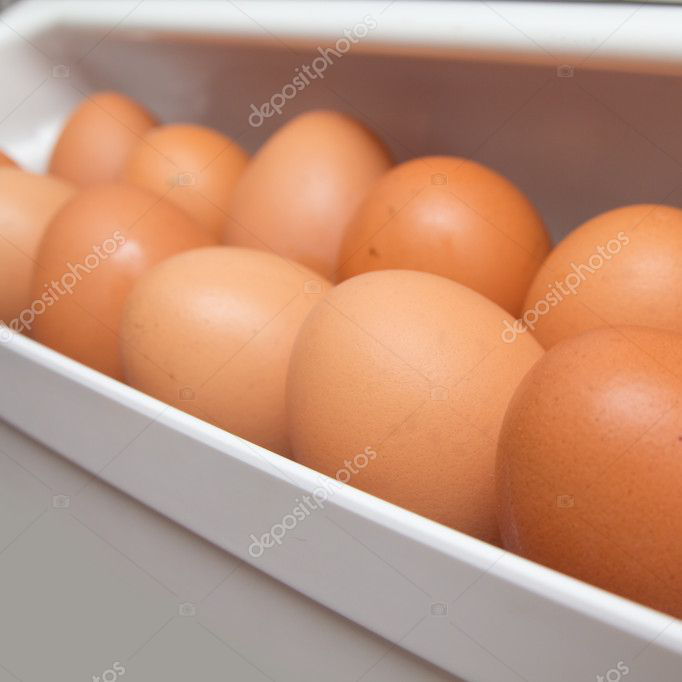egg: (2, 93, 682, 615)
